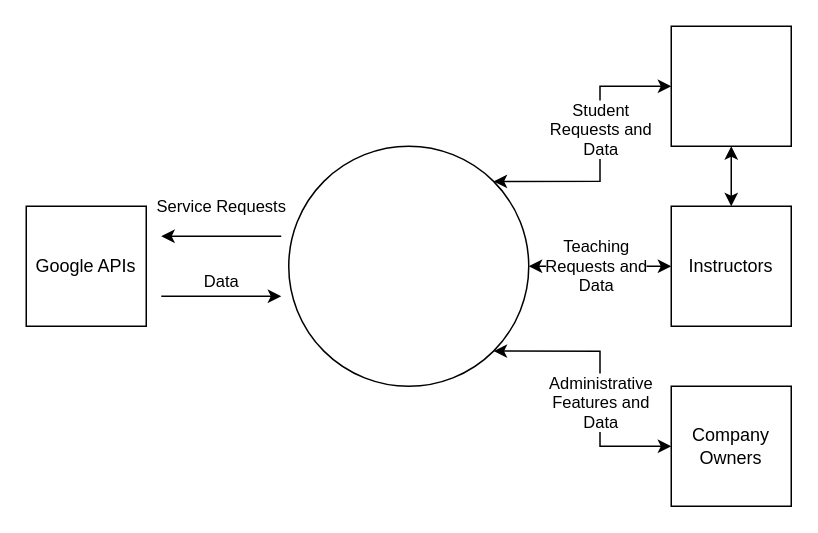
Image size: 818x533. Some labels were removed from this diagram. The centre of each missing label's shape, as x and y in pixels:
"Music App" belongs at (x=408, y=265).
"Students" belongs at (x=730, y=85).
